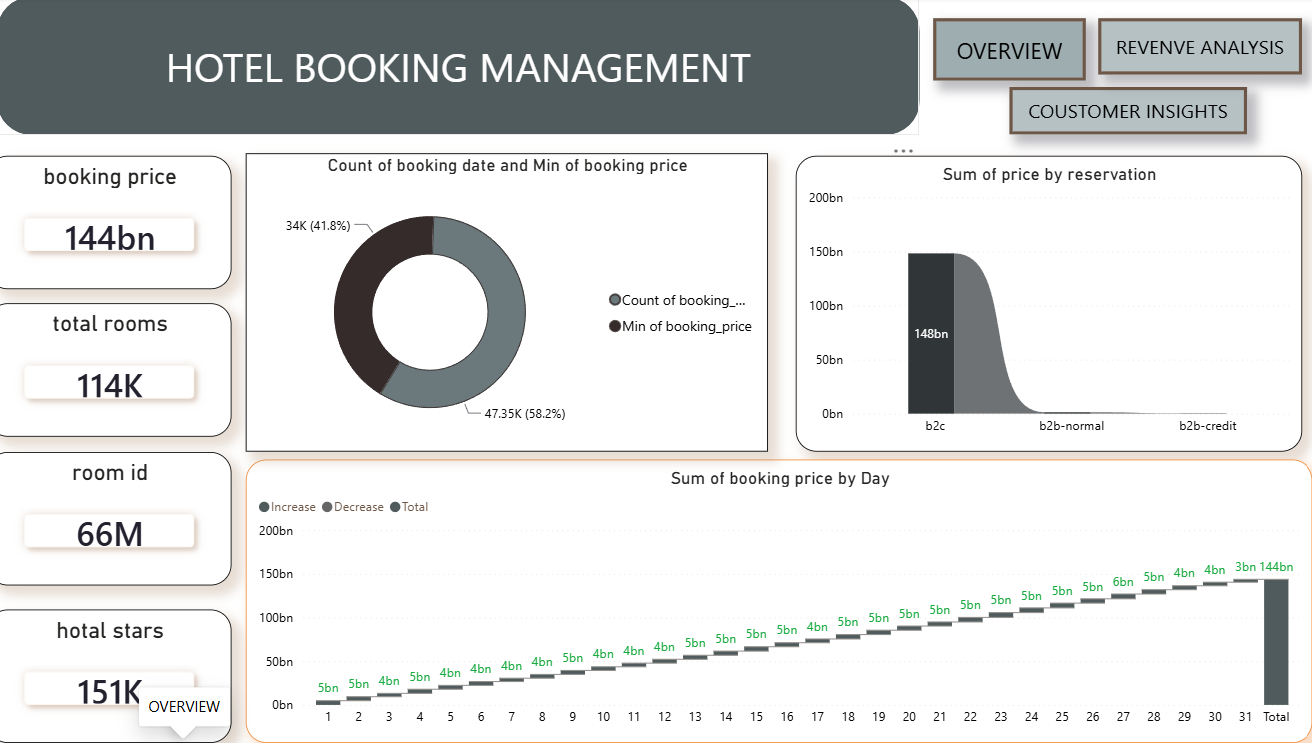

The dashboard page shown, as its layout file describes it:
{"tool":"powerbi","page":{"name":"OVERVIEW","canvas":[1280,720],"ordinal":0},"visuals":[{"type":"shape","box":[9.6,0,890.6,133.1],"z":0},{"type":"cardVisual","title":"booking price","fields":{"Data":["Sum(hotel_reservations_pricing_revenue.booking_price)"]},"box":[0,153.7,236,129],"z":1000},{"type":"cardVisual","title":"total rooms","fields":{"Data":["Sum(hotel_reservations_pricing_revenue.total_room_nights)"]},"box":[0,295,236,129],"z":2000},{"type":"cardVisual","title":"room id","fields":{"Data":["Sum(hotel_reservations_pricing_revenue.room_id)"]},"box":[0,439.1,236,129],"z":3000},{"type":"cardVisual","title":"hotal stars","fields":{"Data":["Sum(hotel_reservations_pricing_revenue.hotel_stars)"]},"box":[0,591.4,236,129],"z":4000},{"type":"ribbonChart","title":"Sum of price by reservation","fields":{"Category":["hotel_reservations_pricing_revenue.reservation_type"],"Y":["Sum(hotel_reservations_pricing_revenue.price)"]},"box":[780.6,153.2,488.6,285.9],"z":5000},{"type":"waterfallChart","title":"Sum of booking price by Day","fields":{"Category":["hotel_reservations_pricing_revenue.booking_date.Variation.Date Hierarchy.Day"],"Y":["Sum(hotel_reservations_pricing_revenue.booking_price)"]},"box":[249.7,446.4,1030.3,273.9],"z":6000},{"type":"donutChart","title":"Count of booking date and Min of booking price","fields":{"Y":["CountNonNull(hotel_reservations_pricing_revenue.booking_date)","Min(hotel_reservations_pricing_revenue.booking_price)"]},"box":[249.7,150.8,504.3,288.3],"z":7000},{"type":"actionButton","box":[913.3,20.5,147.2,60.3],"z":8000},{"type":"actionButton","box":[986.9,86.9,229.2,45.8],"z":9000},{"type":"actionButton","box":[1072.5,20.5,196.6,54.3],"z":10000}]}

Visuals, with their boxes in screenshot pixels (x1, y1, x2, y2), scaled from the page's 1280x720 canvas onto the 1312x743 screenshot:
shape: [x1=10, y1=0, x2=923, y2=137]
"booking price" cardVisual: [x1=0, y1=159, x2=242, y2=292]
"total rooms" cardVisual: [x1=0, y1=304, x2=242, y2=438]
"room id" cardVisual: [x1=0, y1=453, x2=242, y2=586]
"hotal stars" cardVisual: [x1=0, y1=610, x2=242, y2=742]
"Sum of price by reservation" ribbonChart: [x1=800, y1=158, x2=1301, y2=453]
"Sum of booking price by Day" waterfallChart: [x1=256, y1=461, x2=1311, y2=742]
"Count of booking date and Min of booking price" donutChart: [x1=256, y1=156, x2=773, y2=453]
actionButton: [x1=936, y1=21, x2=1087, y2=83]
actionButton: [x1=1012, y1=90, x2=1247, y2=137]
actionButton: [x1=1099, y1=21, x2=1301, y2=77]
